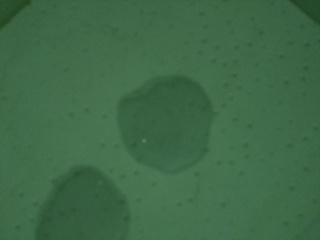Water_detected: (126, 78, 198, 160), (49, 179, 122, 240)
